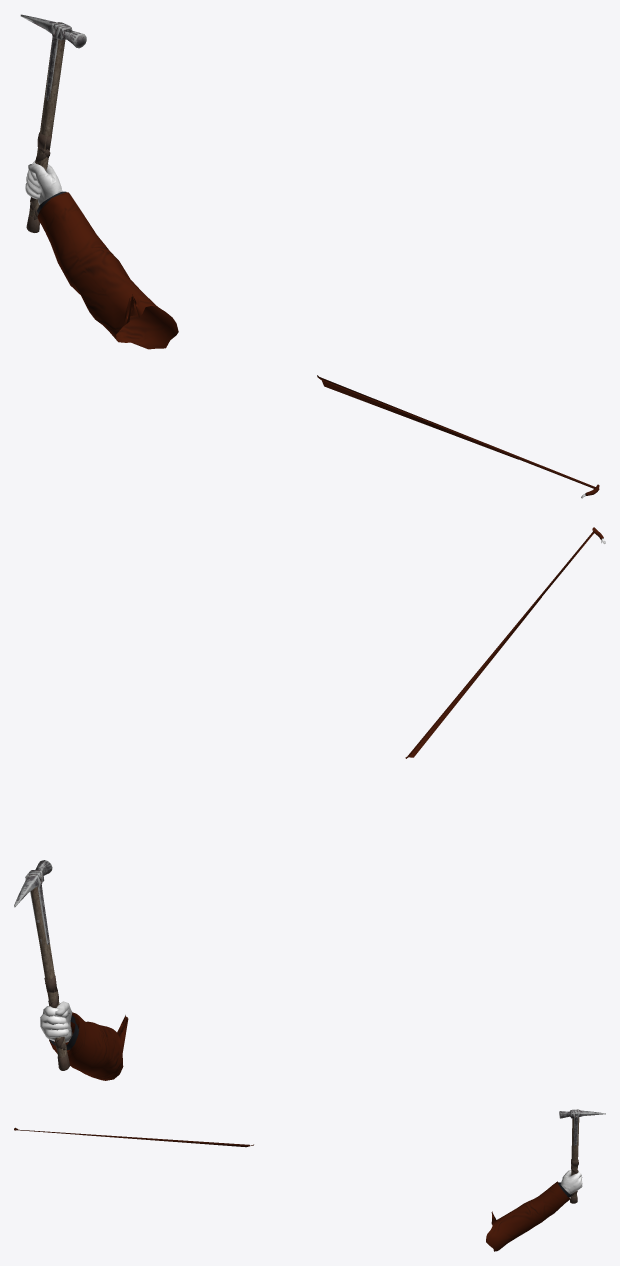
Rendered from frame_10.obj.
The picture shows the model from 3 angles, top to bottom: view 1: azimuth 30°, elevation 25°; view 2: azimuth 150°, elevation 25°; view 3: azimuth 270°, elevation 25°; orthographic projection. The views are drawn at different scales.
Parts seen in each view (by area): view 1: PlayerModelMerged.001_PlayerModelMerged, Cube.028; view 2: PlayerModelMerged.001_PlayerModelMerged, Cube.028; view 3: PlayerModelMerged.001_PlayerModelMerged, Cube.028.
Part boxes in pixels (x1,y1,x2,y2): PlayerModelMerged.001_PlayerModelMerged: (25, 160, 599, 498); Cube.028: (20, 14, 86, 232); PlayerModelMerged.001_PlayerModelMerged: (40, 527, 605, 1080); Cube.028: (14, 860, 70, 1070); PlayerModelMerged.001_PlayerModelMerged: (14, 1127, 582, 1251); Cube.028: (559, 1109, 605, 1203).
Size of the model in its own units: 0.3945 by 1.08 by 4.23.
